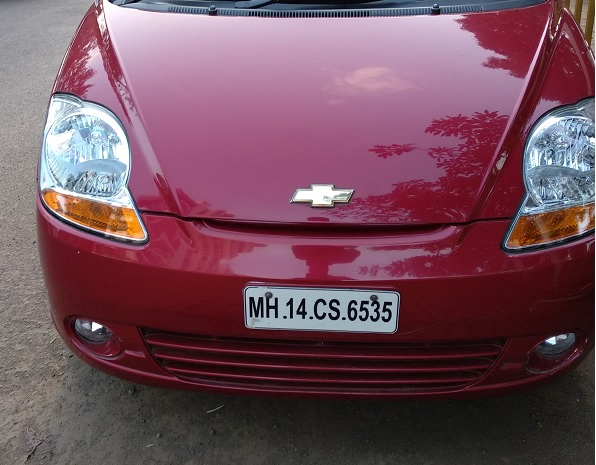licenseplate: (243, 282, 406, 336)
